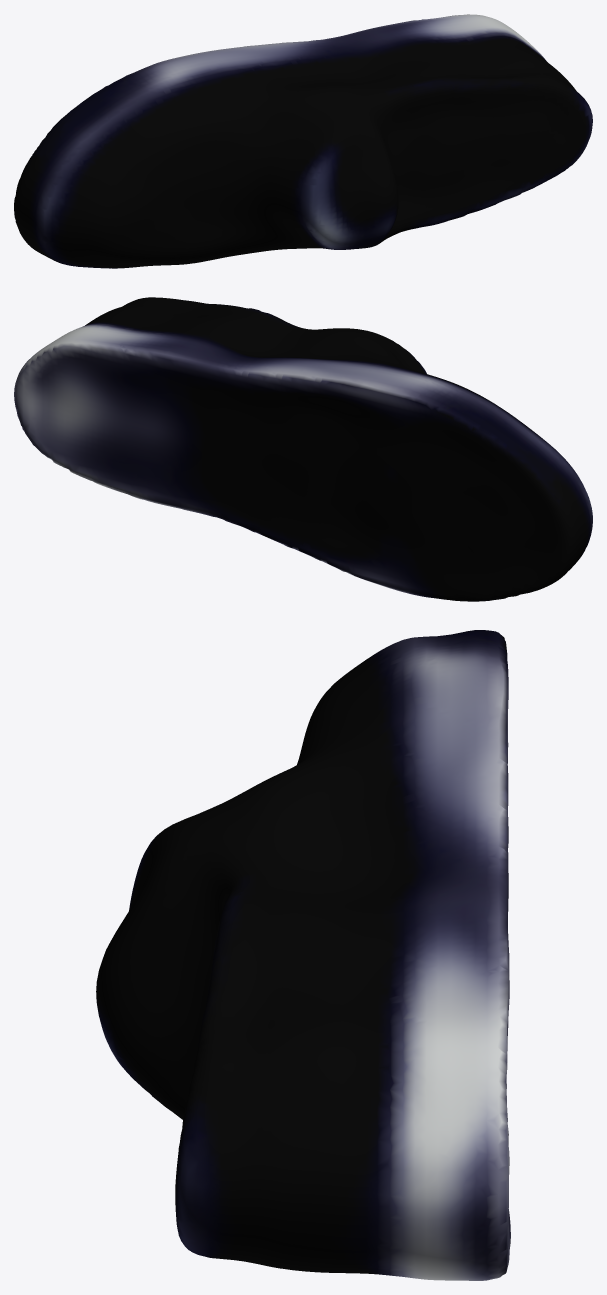
Rendered from shoe.glb.
3 renders of one model, top to bottom at view 1: azimuth 30°, elevation 25°; view 2: azimuth 150°, elevation 25°; view 3: azimuth 270°, elevation 25°, orthographic. The views are drawn at different scales.
Bounding box in the file's own units: 0.9998 × 0.3494 × 0.3437.
